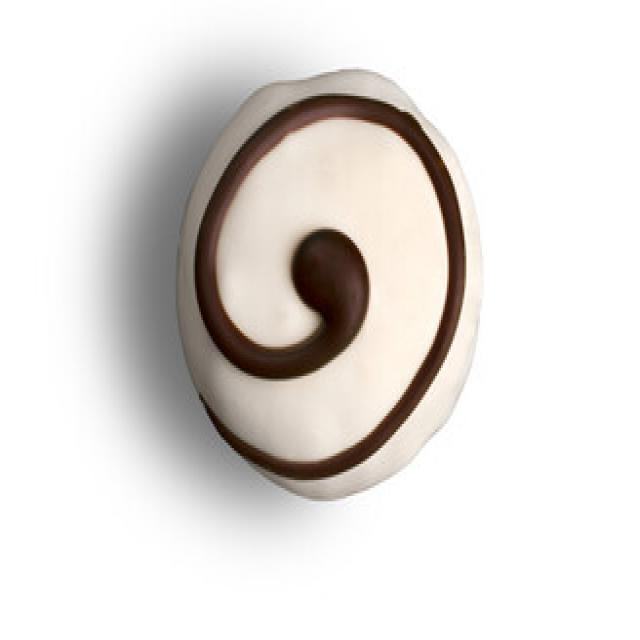chocolate: (176, 63, 478, 502)
